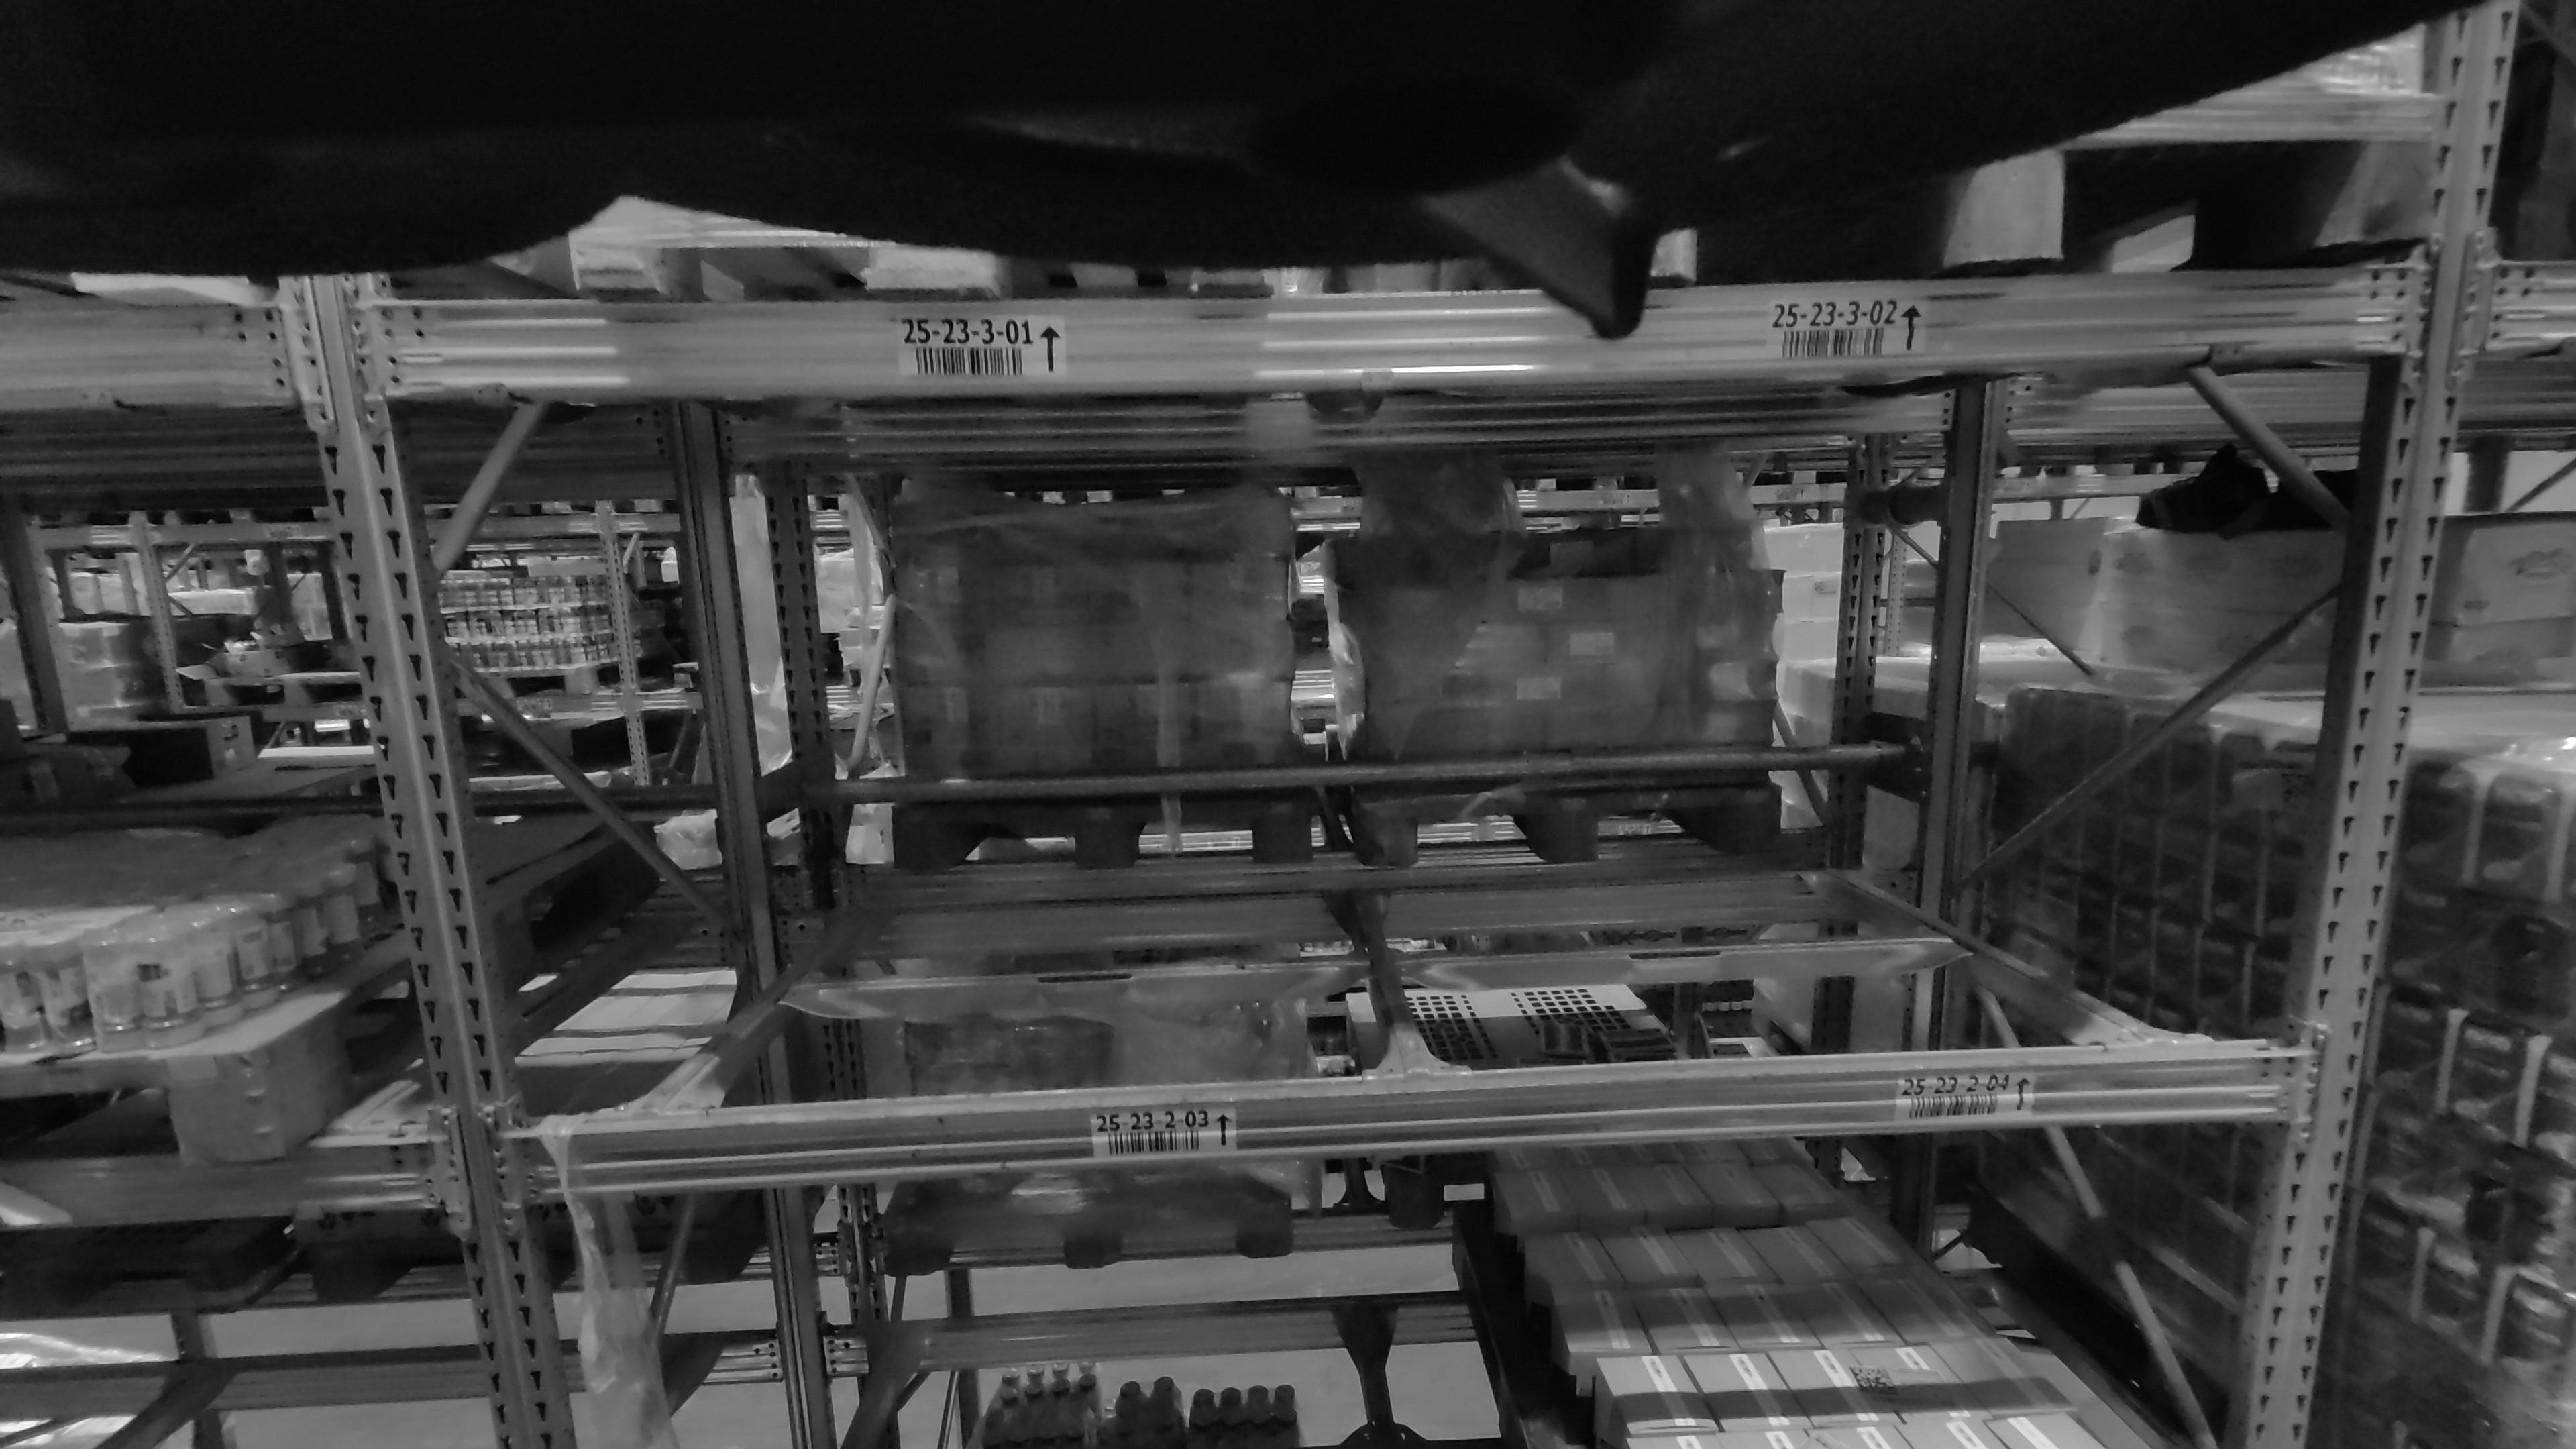empty-shelf: (1442, 347, 2128, 1053), (669, 409, 1380, 1070)
